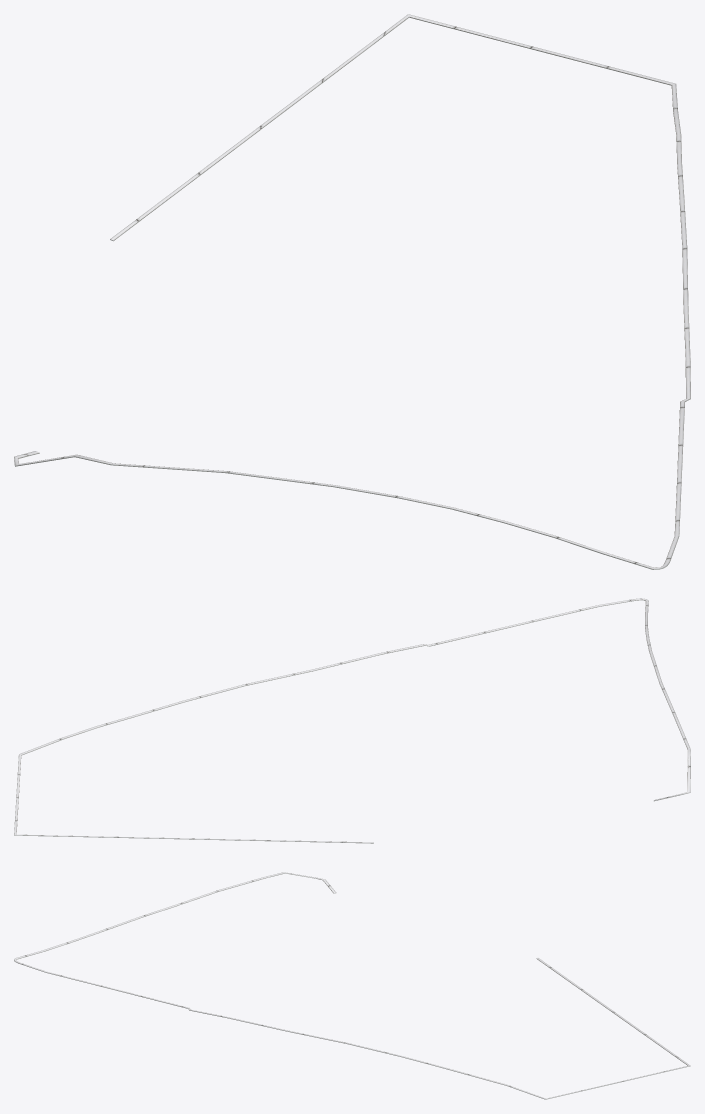
The model's file is STA20_RAILingD01.FBX.
3 renders of one model, top to bottom at view 1: azimuth 30°, elevation 25°; view 2: azimuth 150°, elevation 25°; view 3: azimuth 270°, elevation 25°, orthographic. The views are drawn at different scales.
Visible parts, largest first — view 1: STA20_RAILingD01; view 2: STA20_RAILingD01; view 3: STA20_RAILingD01.
Part boxes in pixels (bbox=[...]): STA20_RAILingD01: bbox=[14, 14, 690, 569]; STA20_RAILingD01: bbox=[14, 598, 690, 843]; STA20_RAILingD01: bbox=[14, 872, 690, 1099].
Bounding box in the file's own units: 56.88 × 2.8 × 71.96.
